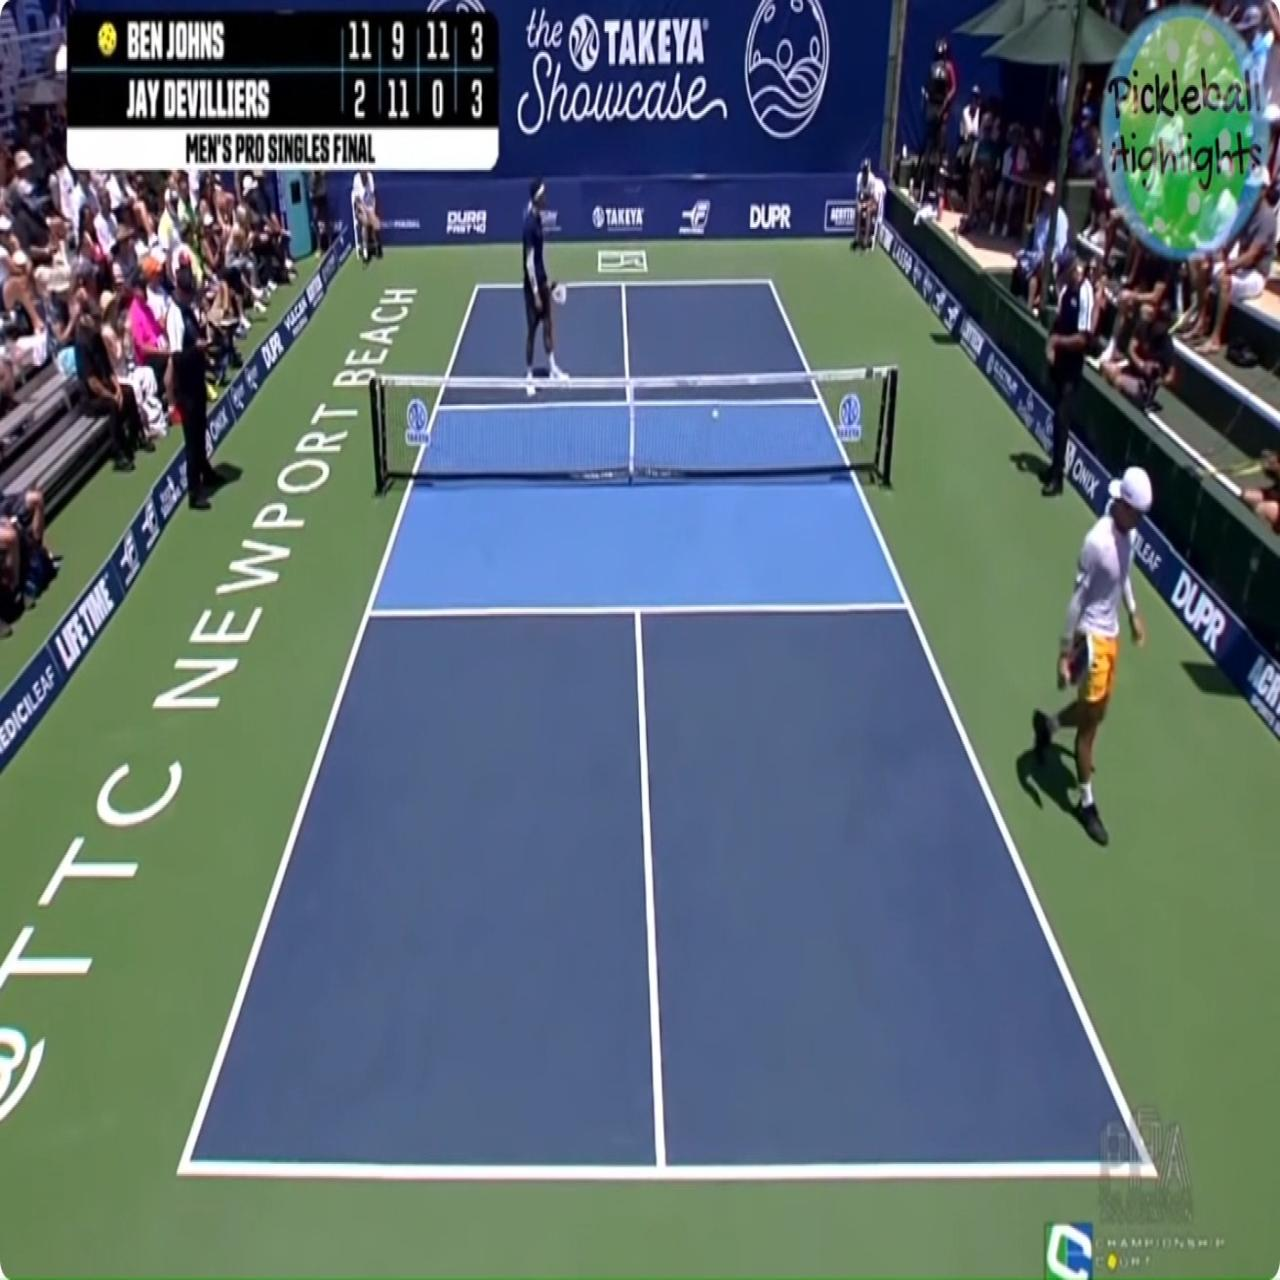pickleball: (712, 408, 719, 420)
